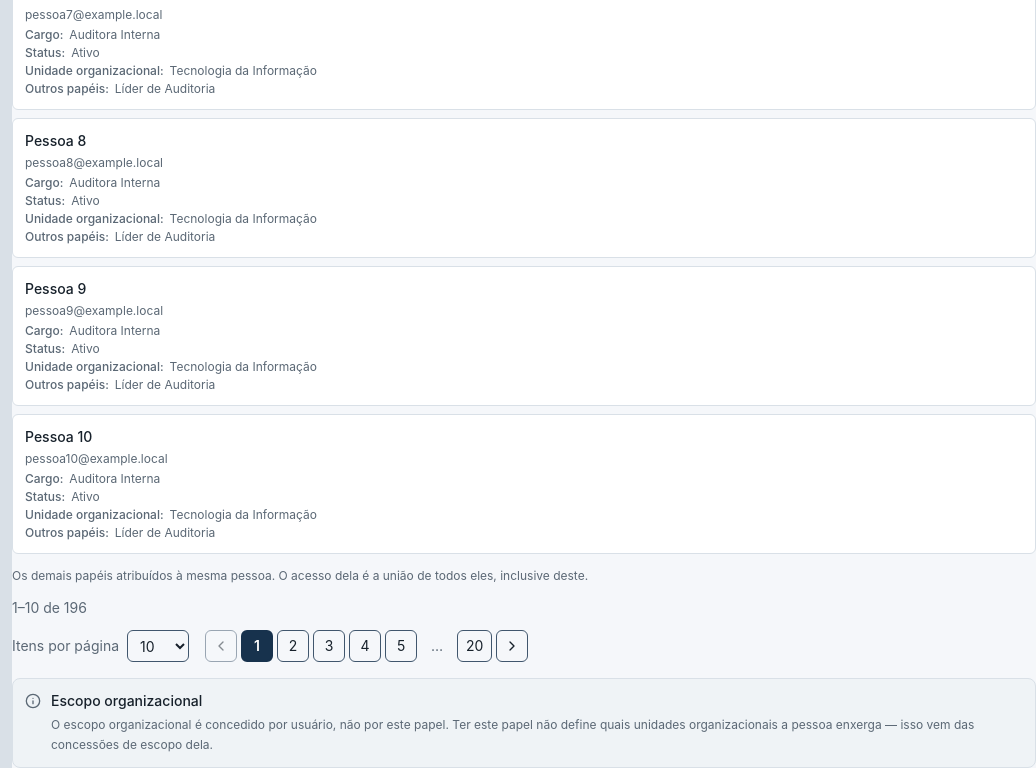
Test: RoleUsersTab — pagination above the contract cap (FR-024, NFR-006) › returns to the first page when the page size changes, and never asks for more than the contract allows
(page scrolled)
Click the button named "Ir para a página 3": [329, 646] box [313, 630, 345, 662]
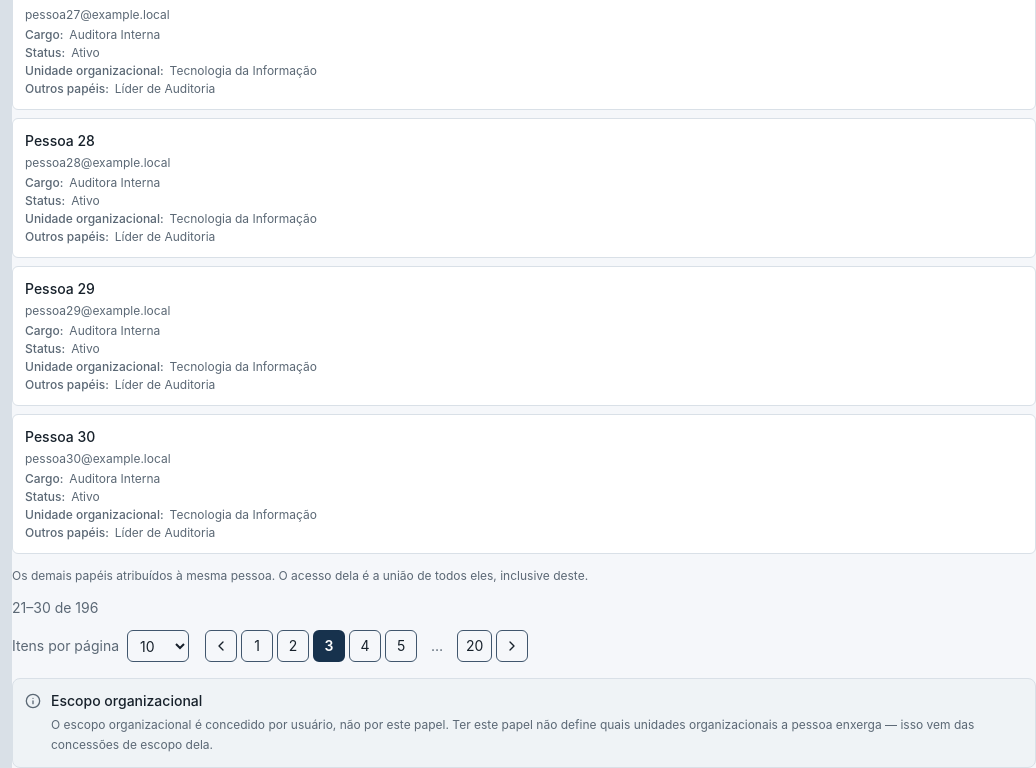
Select "100" in the dropdown labelled "Itens por página": [158, 646] box [127, 630, 189, 662]
(page scrolled)
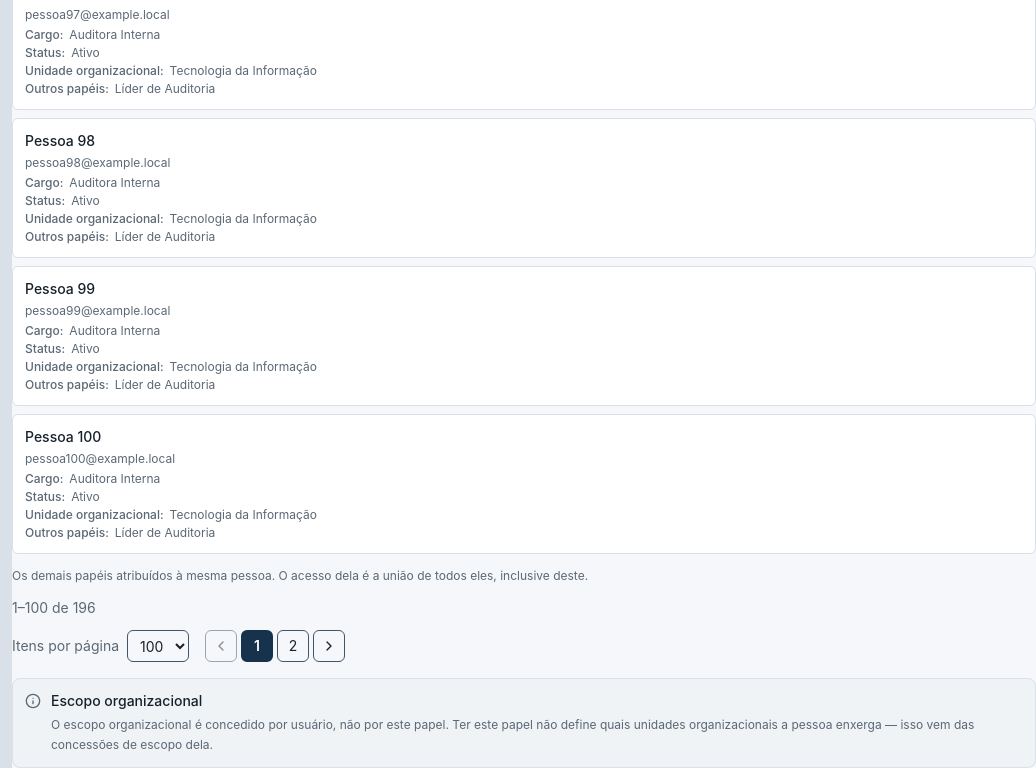
Expected: the text "1–100 de 196" is shown, [12, 598, 96, 618]
